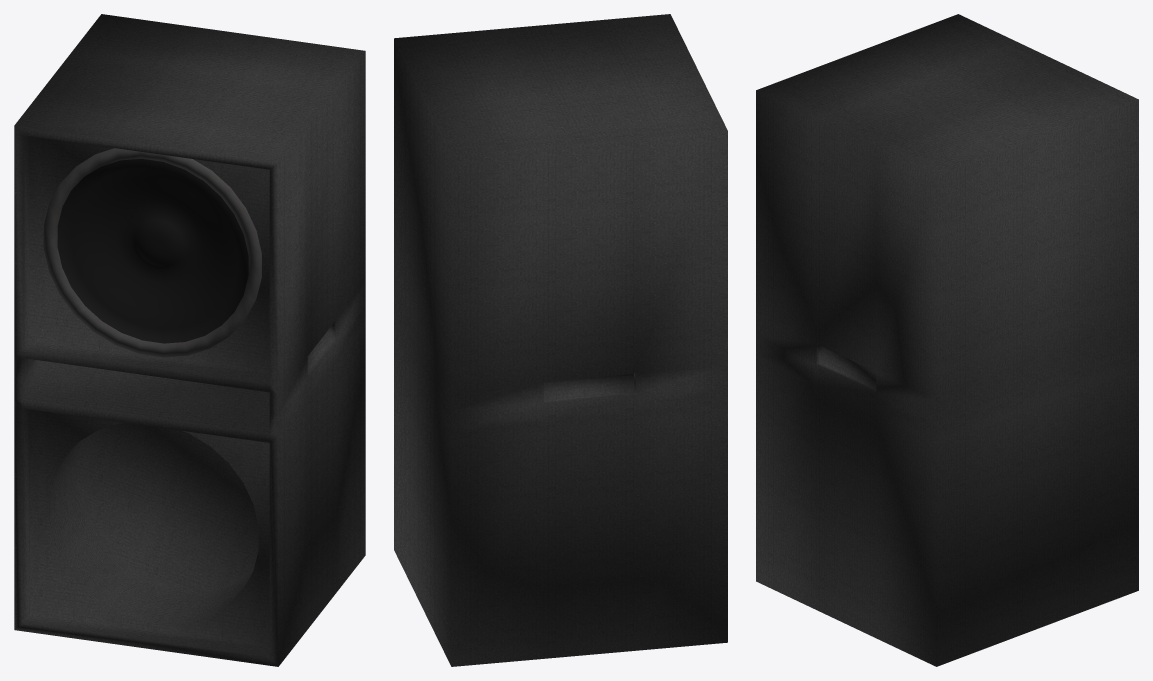
The model's file is BafleDerecho.glb.
3 renders of one model, left to right at view 1: azimuth 30°, elevation 25°; view 2: azimuth 150°, elevation 25°; view 3: azimuth 270°, elevation 25°, orthographic. The views are drawn at different scales.
Parts seen in each view (by area): view 1: Stage Speaker 60x60x120.003, Speakers.003; view 2: Stage Speaker 60x60x120.003; view 3: Stage Speaker 60x60x120.003.
Part boxes in pixels (bbox=[...]): Stage Speaker 60x60x120.003: bbox=[14, 14, 365, 666]; Speakers.003: bbox=[43, 148, 261, 357]; Stage Speaker 60x60x120.003: bbox=[394, 14, 727, 666]; Stage Speaker 60x60x120.003: bbox=[756, 14, 1138, 666].
Size of the model in its own units: 42.36 by 60 by 42.36.
1 material, 1 textured.
